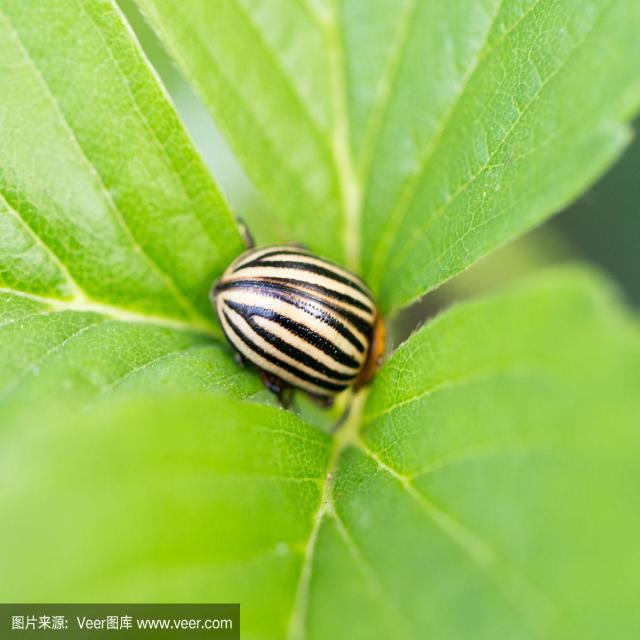ShuCaiHuaBanChong-Grown-: (212, 238, 392, 416)
